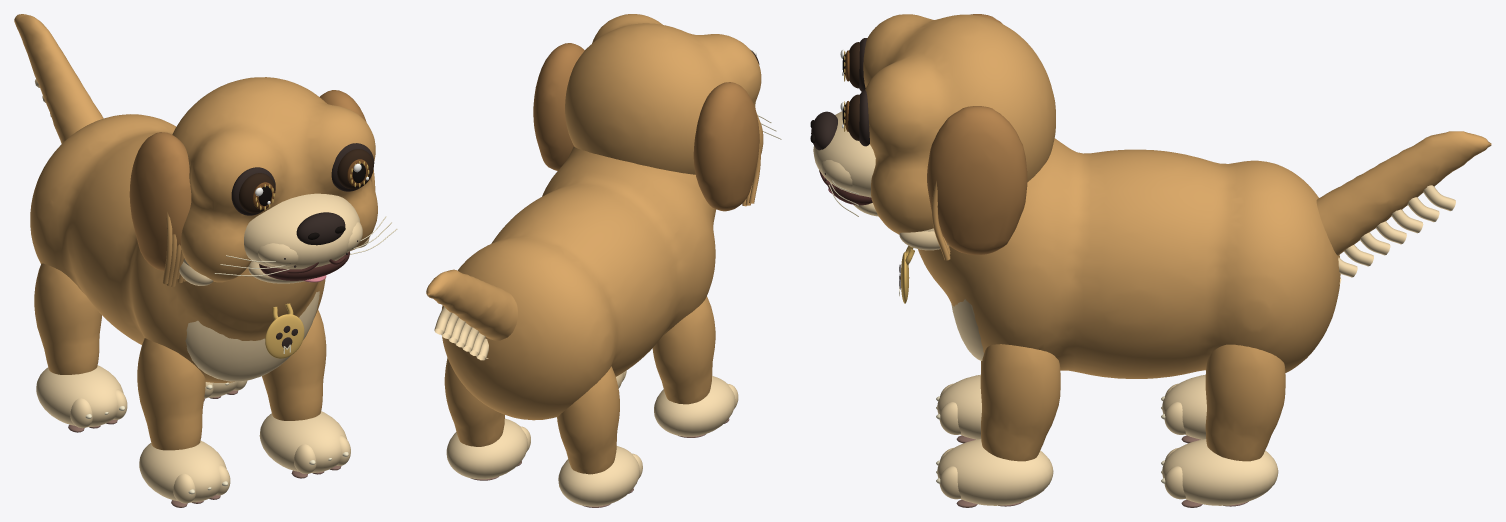
The model's file is puppy-v2.glb.
3 renders of one model, left to right at view 1: azimuth 30°, elevation 25°; view 2: azimuth 150°, elevation 25°; view 3: azimuth 270°, elevation 25°, orthographic. The views are drawn at different scales.
Visible parts, largest first — view 1: Sculpted coat, Sculpted face, Head Fur champagne, Silky floppy ear, Feathered leg, Feathered leg.001, Feathered tail, FrontL Fur champagne, FrontR Fur champagne, BackL Fur champagne, Feathered leg.002, Chest bib (+9 smaller); view 2: Sculpted coat, Sculpted face, Silky floppy ear, Feathered leg, Feathered leg.001, Feathered tail, Silky floppy ear.001, BackL Fur champagne, BackR Fur champagne, FrontL Fur champagne, Feathered leg.003, Tail Fur champagne; view 3: Sculpted coat, Sculpted face, Silky floppy ear.001, Feathered tail, Feathered leg.002, Feathered leg.003, BackR Fur champagne, FrontR Fur champagne, Head Fur champagne, Tail Fur champagne, BackL Fur champagne, FrontL Fur champagne (+2 smaller).
Boxes of the visible parts, x1,y1,x2,y2 form: Sculpted coat: (30, 114, 325, 382); Sculpted face: (172, 77, 377, 282); Head Fur champagne: (179, 193, 369, 285); Silky floppy ear: (129, 132, 191, 270); Feathered leg: (137, 338, 205, 450); Feathered leg.001: (34, 263, 101, 374); Feathered tail: (14, 14, 103, 143); FrontL Fur champagne: (139, 441, 230, 503); FrontR Fur champagne: (259, 411, 350, 473); BackL Fur champagne: (36, 365, 127, 428); Feathered leg.002: (262, 309, 326, 420); Chest bib: (185, 291, 319, 381); Sculpted coat: (442, 146, 716, 420); Sculpted face: (565, 14, 763, 174); Silky floppy ear: (693, 82, 759, 211); Feathered leg: (652, 296, 715, 404); Feathered leg.001: (557, 366, 619, 474); Feathered tail: (426, 269, 517, 340); Silky floppy ear.001: (533, 43, 584, 170); BackL Fur champagne: (558, 446, 642, 506); BackR Fur champagne: (446, 418, 530, 479); FrontL Fur champagne: (654, 376, 738, 436); Feathered leg.003: (444, 357, 504, 446); Tail Fur champagne: (434, 306, 488, 360); Sculpted coat: (918, 138, 1340, 378); Sculpted face: (863, 14, 1055, 234); Silky floppy ear.001: (927, 106, 1027, 254); Feathered tail: (1316, 131, 1491, 255); Feathered leg.002: (980, 344, 1060, 461); Feathered leg.003: (1205, 344, 1285, 461); BackR Fur champagne: (1162, 439, 1278, 505); FrontR Fur champagne: (937, 439, 1053, 505); Head Fur champagne: (813, 111, 949, 250); Tail Fur champagne: (1338, 185, 1455, 284); BackL Fur champagne: (1162, 374, 1206, 439); FrontL Fur champagne: (937, 374, 981, 439).
Size of the model in its own units: 0.8176 by 1.4 by 1.95.
